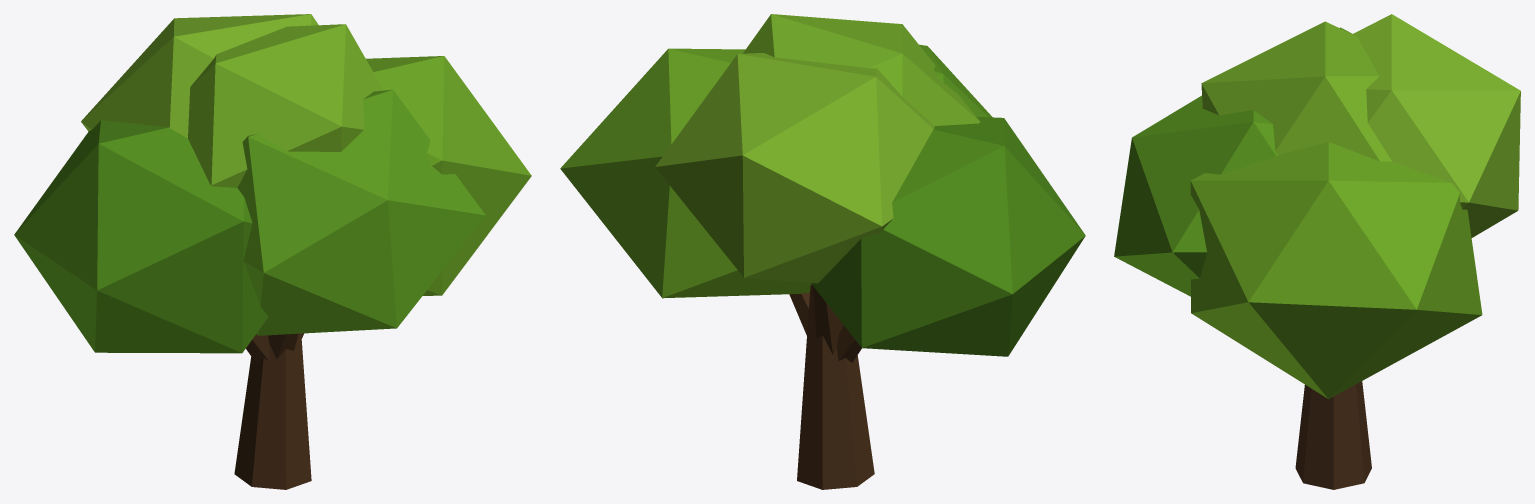
Rendered from oak.glb.
3 renders of one model, left to right at view 1: azimuth 30°, elevation 25°; view 2: azimuth 150°, elevation 25°; view 3: azimuth 270°, elevation 25°, orthographic. The views are drawn at different scales.
Visible parts, largest first — view 1: oak; view 2: oak; view 3: oak.
Part boxes in pixels (x1=…): oak: x1=14, y1=14, x2=531, y2=489; oak: x1=560, y1=14, x2=1085, y2=489; oak: x1=1114, y1=14, x2=1520, y2=489.
Size of the model in its own units: 14.86 by 13.87 by 11.92.
